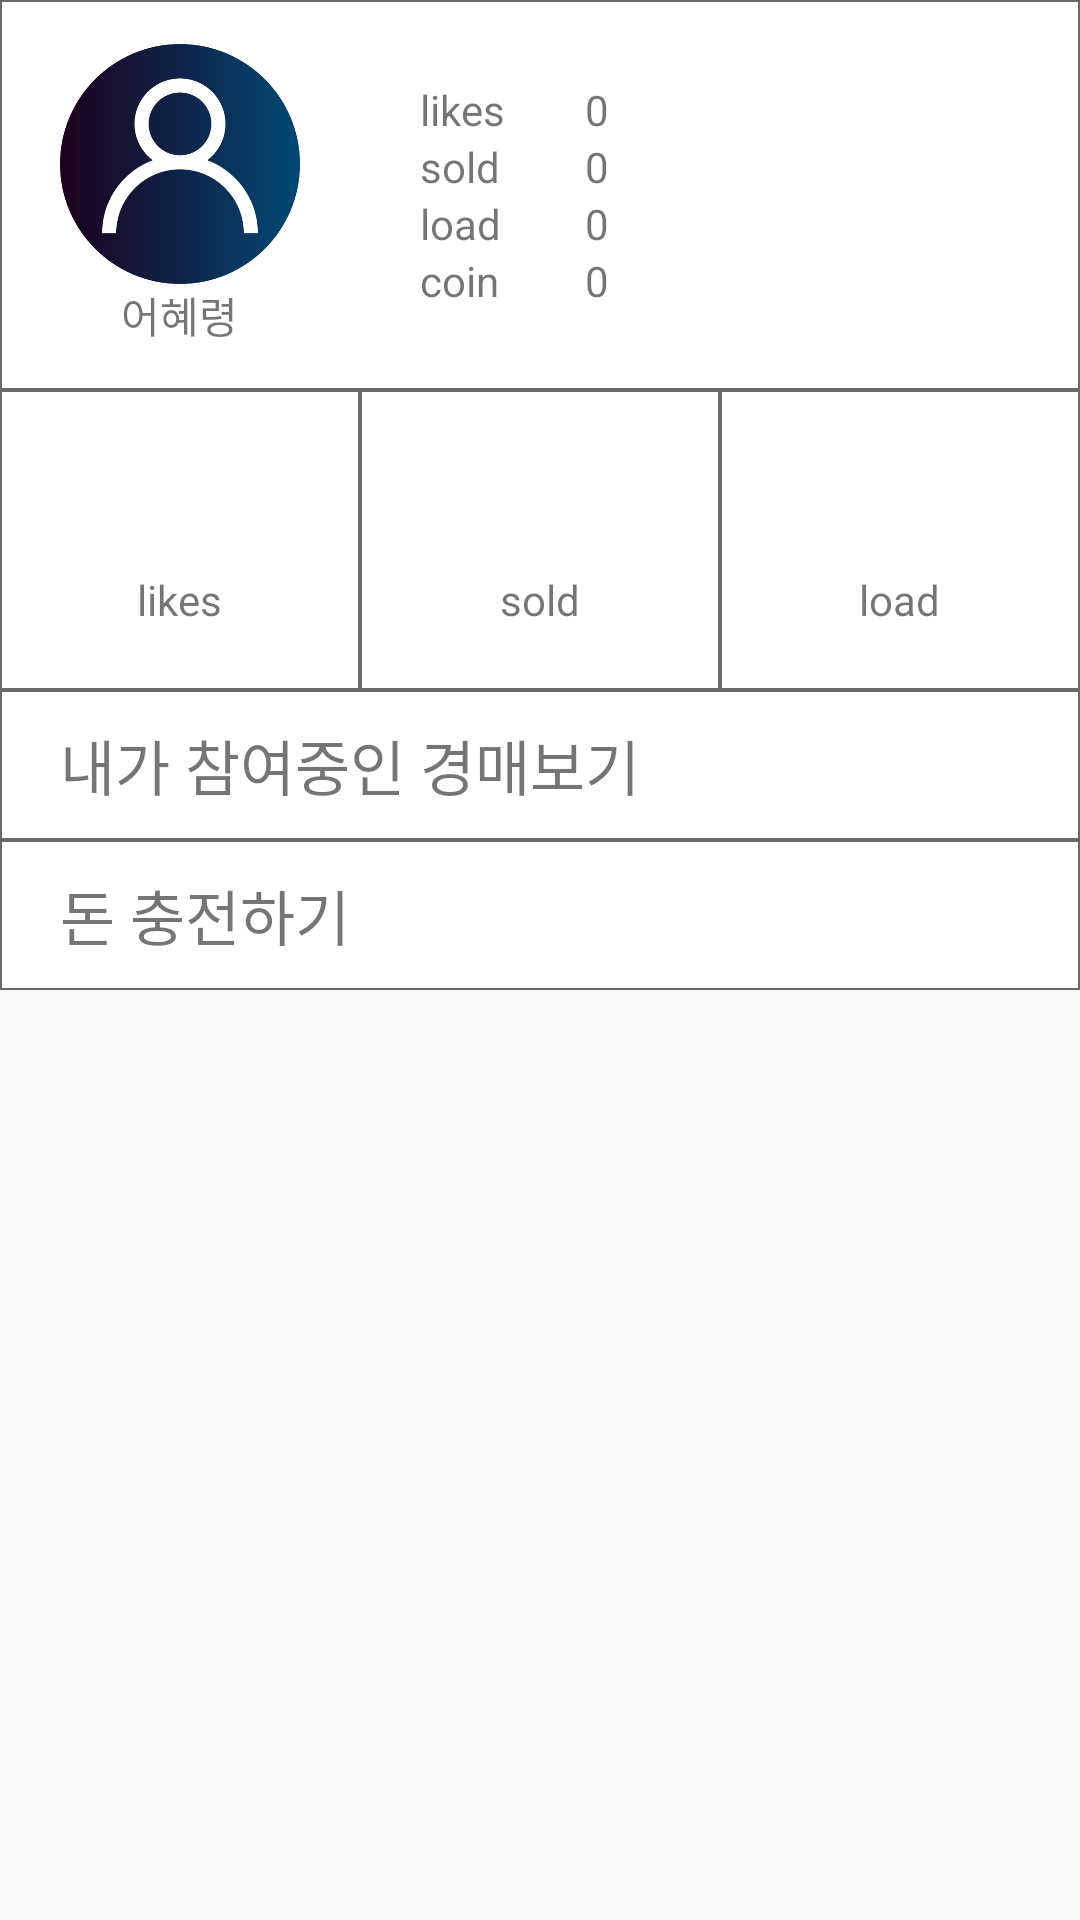

Icon click points for this 1080px×1920px phone screenshot, format (x,y):
user: (180,164)
